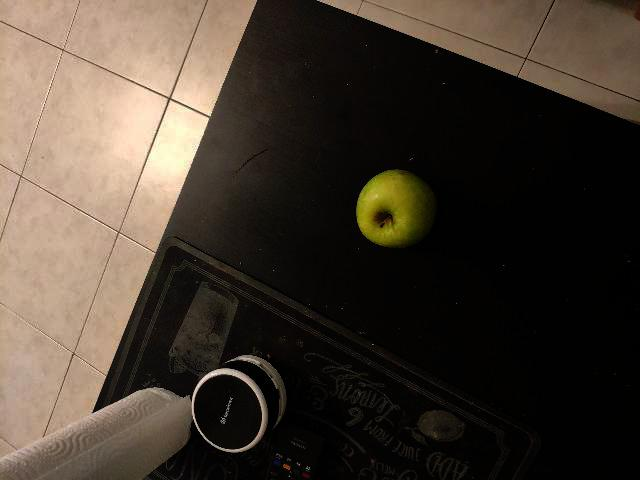apple: (355, 169, 431, 245)
